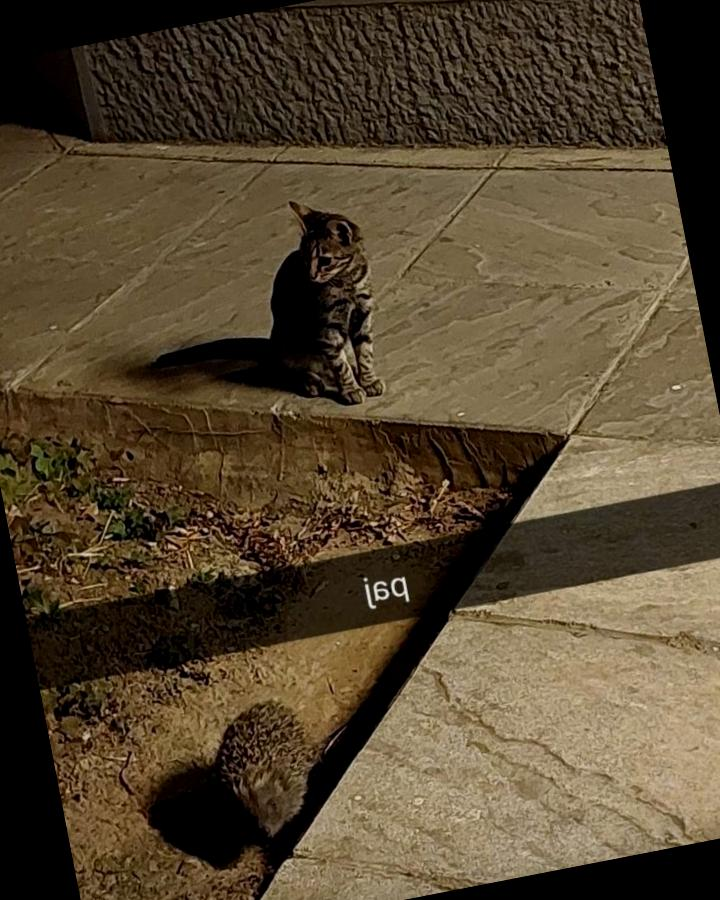macka: (128, 187, 395, 442)
